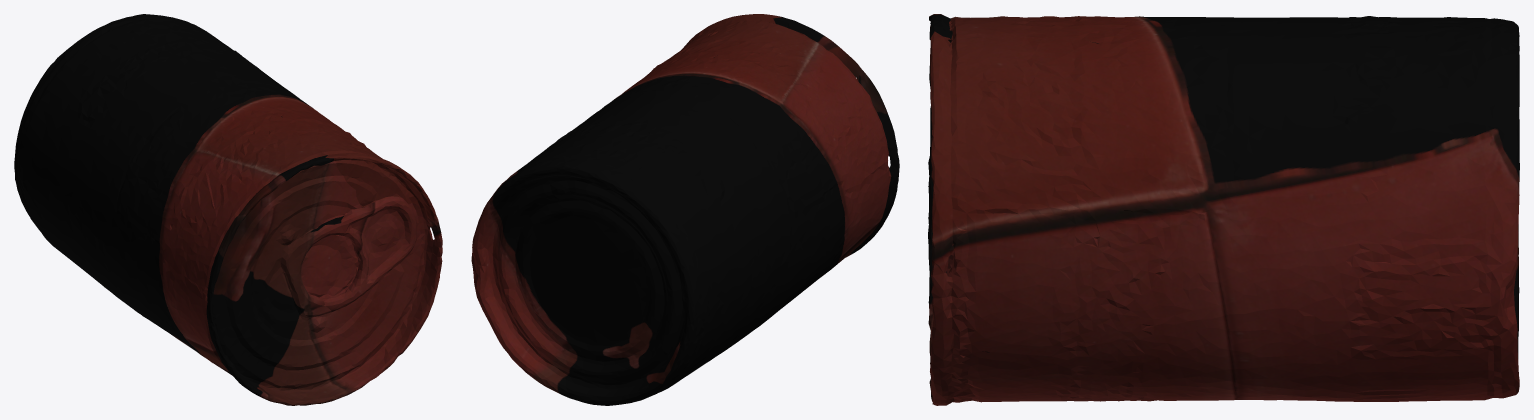
3 views of the same model, side by side, from view 1: azimuth 30°, elevation 25°; view 2: azimuth 150°, elevation 25°; view 3: azimuth 270°, elevation 25° (orthographic). The views are drawn at different scales.
Size of the model in its own units: 0.0679 by 0.0677 by 0.1019.
